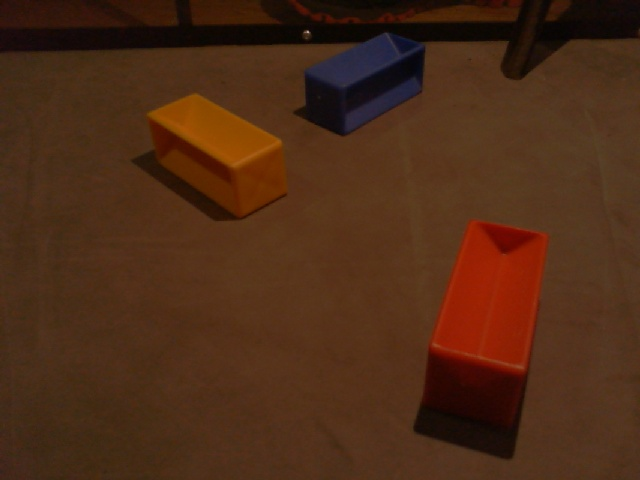BlueSample: (302, 31, 425, 137)
RedSample: (420, 215, 551, 432)
YellowSample: (142, 90, 292, 222)
